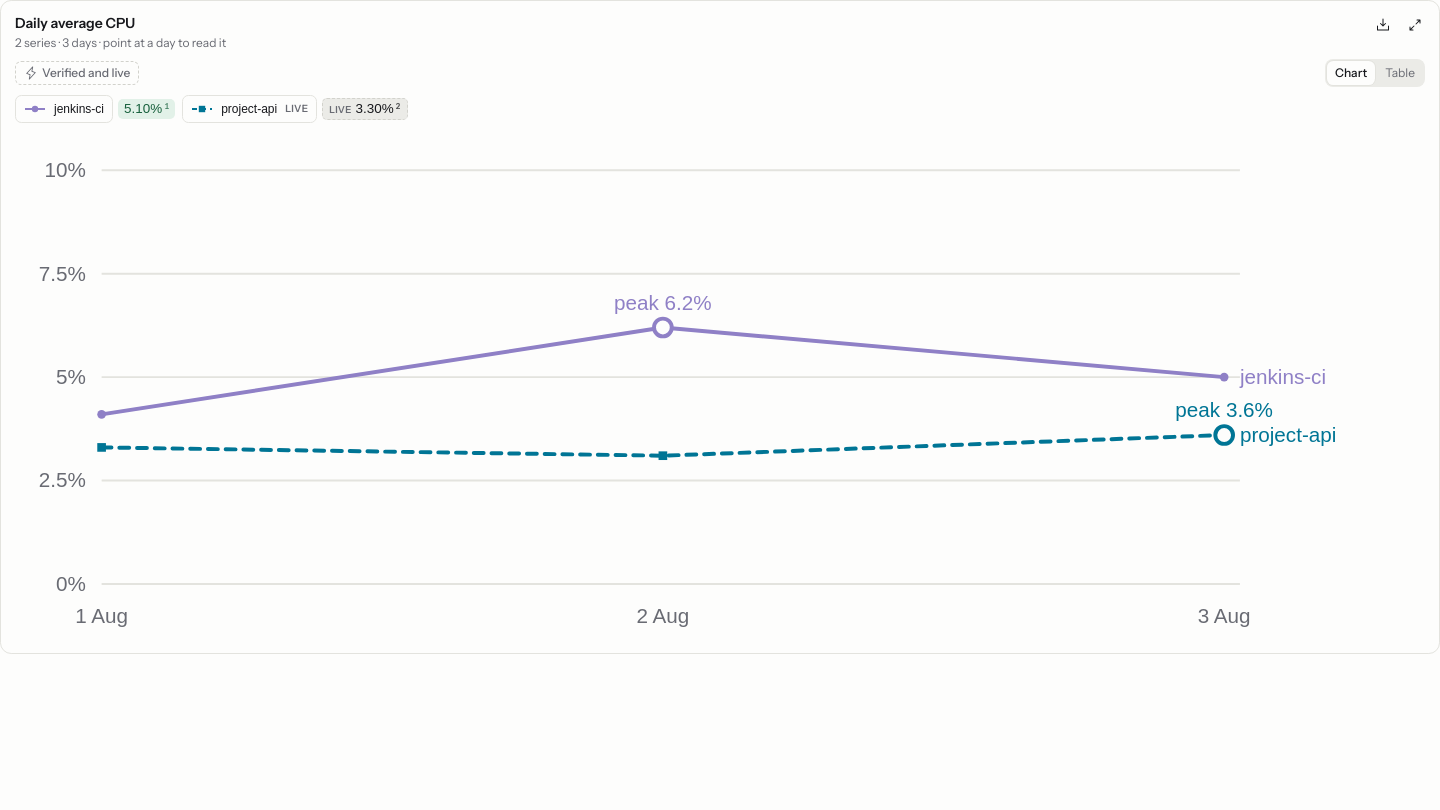
a trend › shows its figures as a table
Step 1. Click the radio button labelled "Table" → (1400,72), box x1=1385 y1=65 x2=1415 y2=80
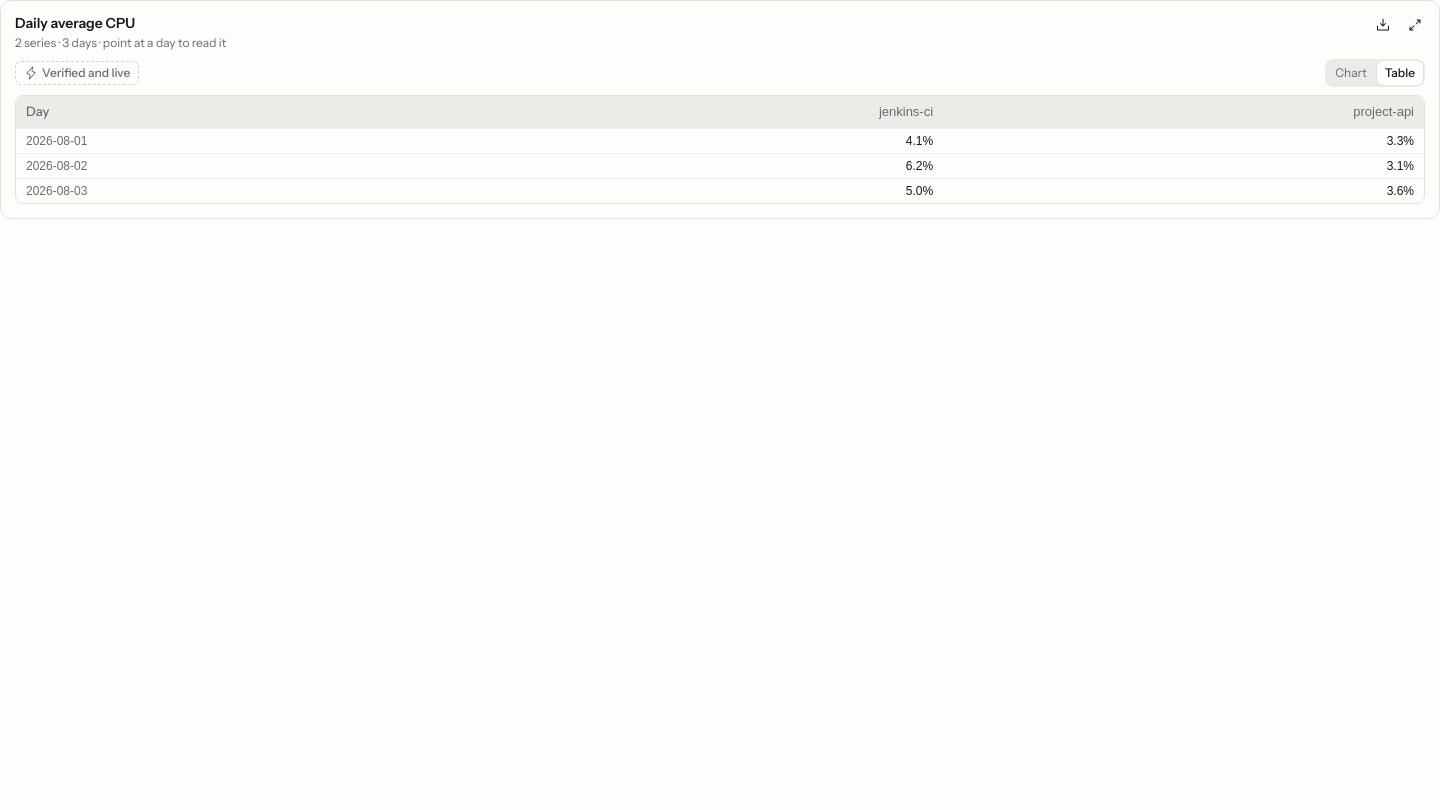
Result: the number of rows is 4 at x1=16 y1=96 x2=1424 y2=128; x1=16 y1=128 x2=1424 y2=153; x1=16 y1=153 x2=1424 y2=178; x1=16 y1=178 x2=1424 y2=202
Result: the table shows "6.2%" at x1=906 y1=158 x2=933 y2=172
